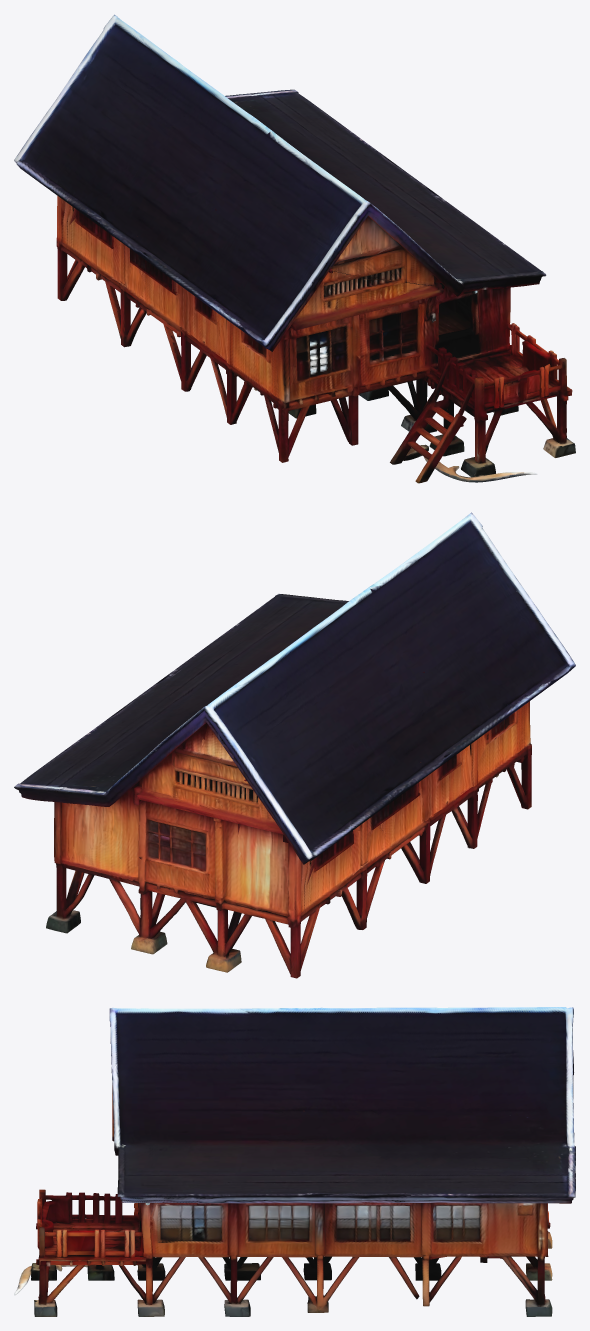
Rendered from bharugano-wuna.glb.
3 renders of one model, top to bottom at view 1: azimuth 30°, elevation 25°; view 2: azimuth 150°, elevation 25°; view 3: azimuth 270°, elevation 25°, orthographic. The views are drawn at different scales.
Visible parts, largest first — view 1: Rumah adat bharugano-wuna; view 2: Rumah adat bharugano-wuna; view 3: Rumah adat bharugano-wuna.
Part boxes in pixels (bbox=[...]): Rumah adat bharugano-wuna: bbox=[14, 14, 575, 483]; Rumah adat bharugano-wuna: bbox=[14, 512, 575, 978]; Rumah adat bharugano-wuna: bbox=[14, 1007, 575, 1316].
Bounding box in the file's own units: 1.01 × 0.8859 × 1.9.
Materials: 1 (1 with a texture image).
